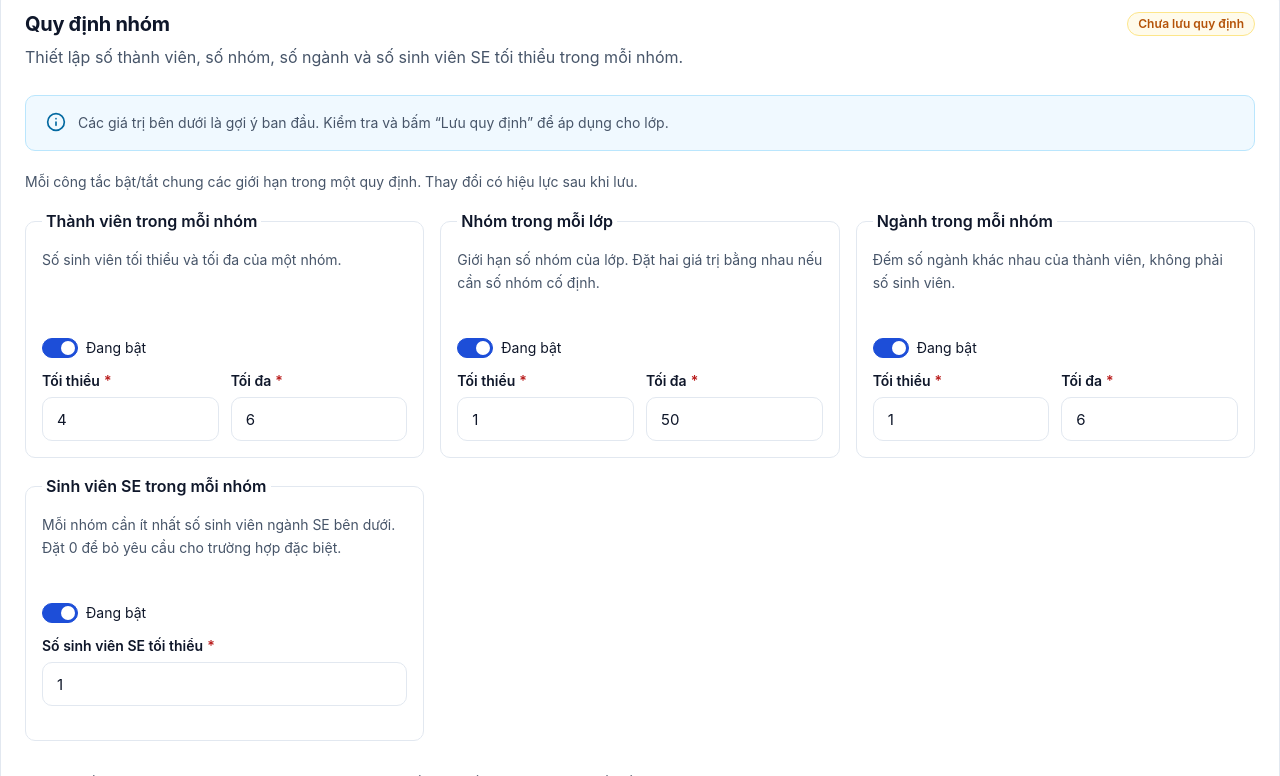
Class grouping rules workflow › saves an SE minimum of zero to disable the requirement
Replace the text in the number field labelled "Số sinh viên SE tối thiểu*" with "0" at (225, 684), box [42, 662, 407, 706]
(page scrolled)
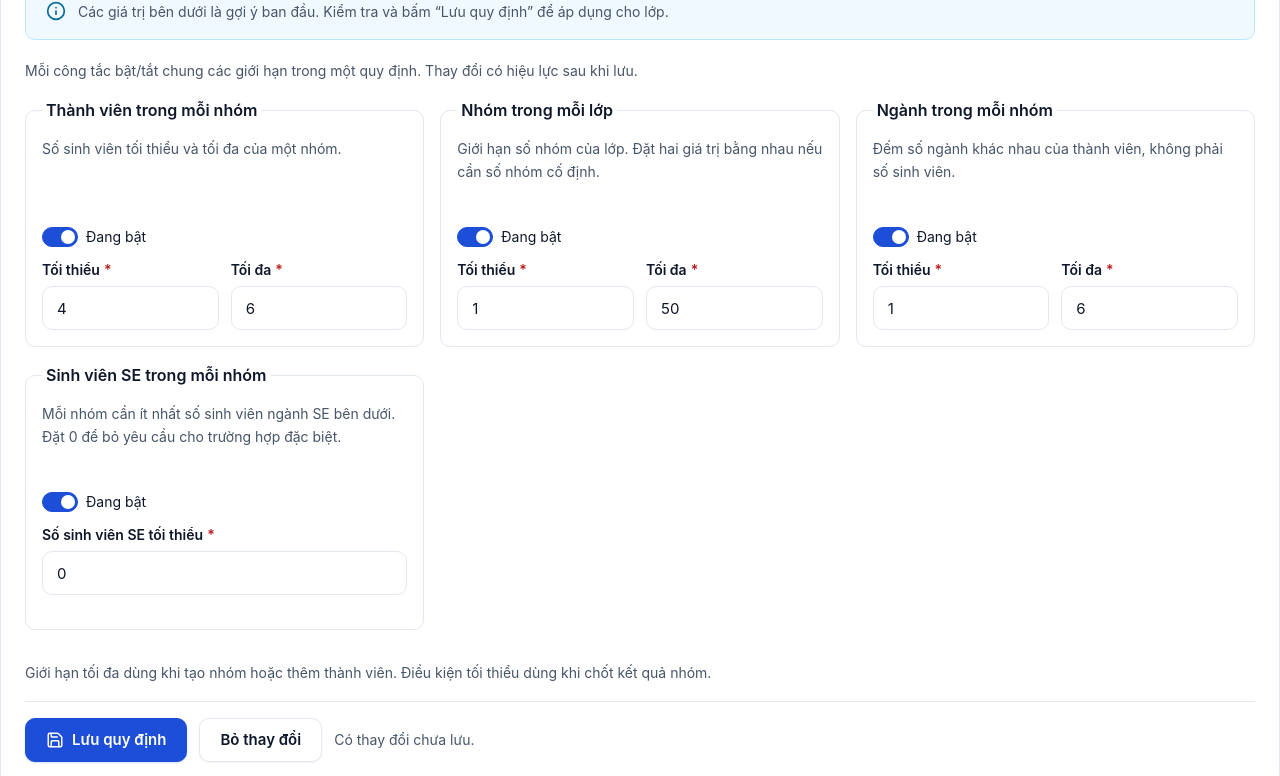
Click the button "Lưu quy định" at (106, 740), box [25, 718, 188, 762]
(page scrolled)
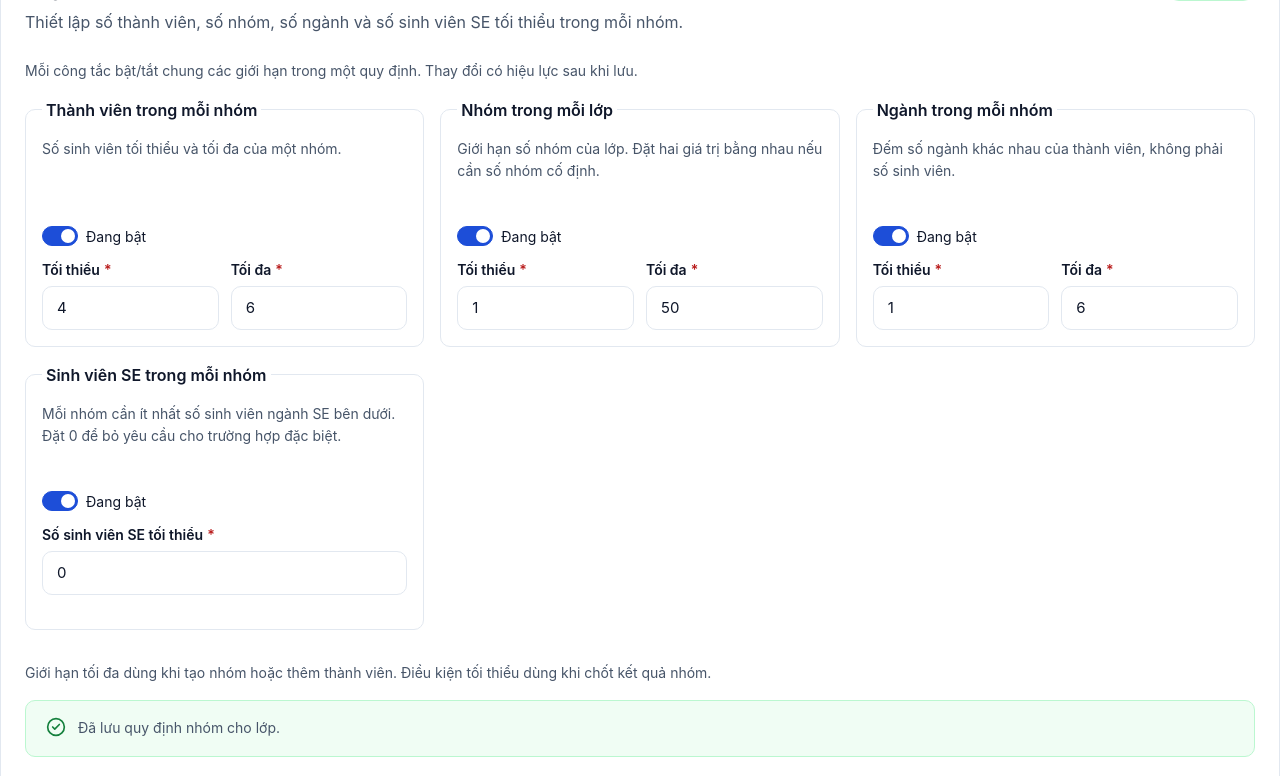
Now the text "Đã lưu quy định nhóm cho lớp." is shown, box [78, 717, 280, 740]
